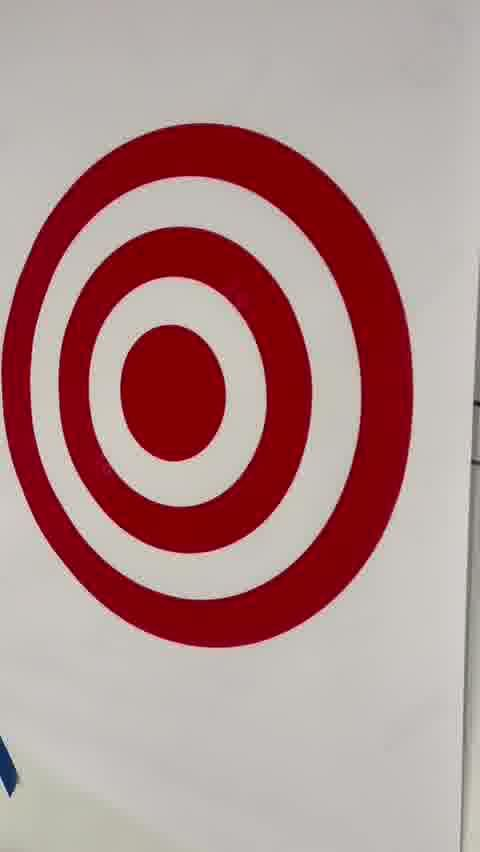target_red: (4, 120, 415, 650)
